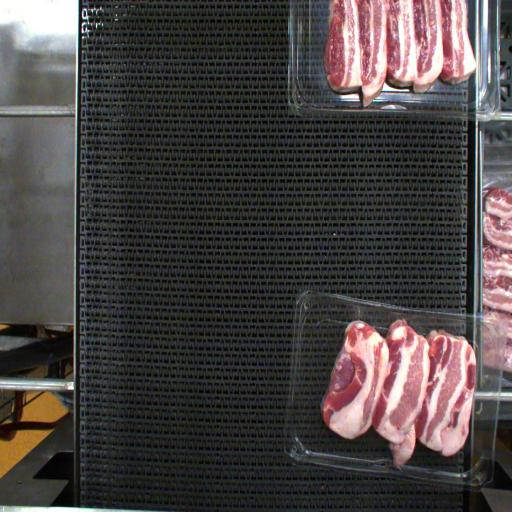packaging-error: (354, 302, 365, 323)
